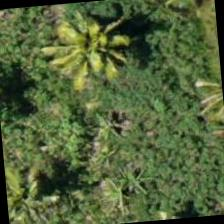Kelapa_Sawit: (45, 0, 144, 96), (3, 150, 72, 223)
